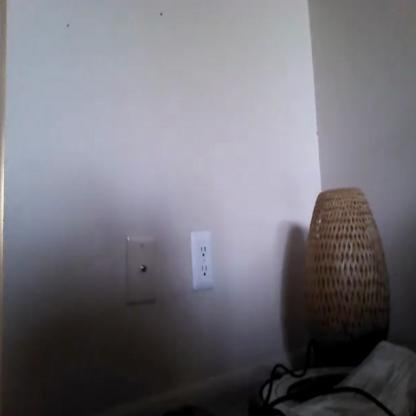OUTLET: (190, 232, 214, 288)
